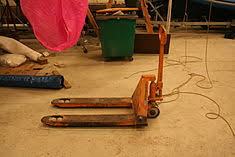Pallet Jack: (39, 24, 168, 130)
